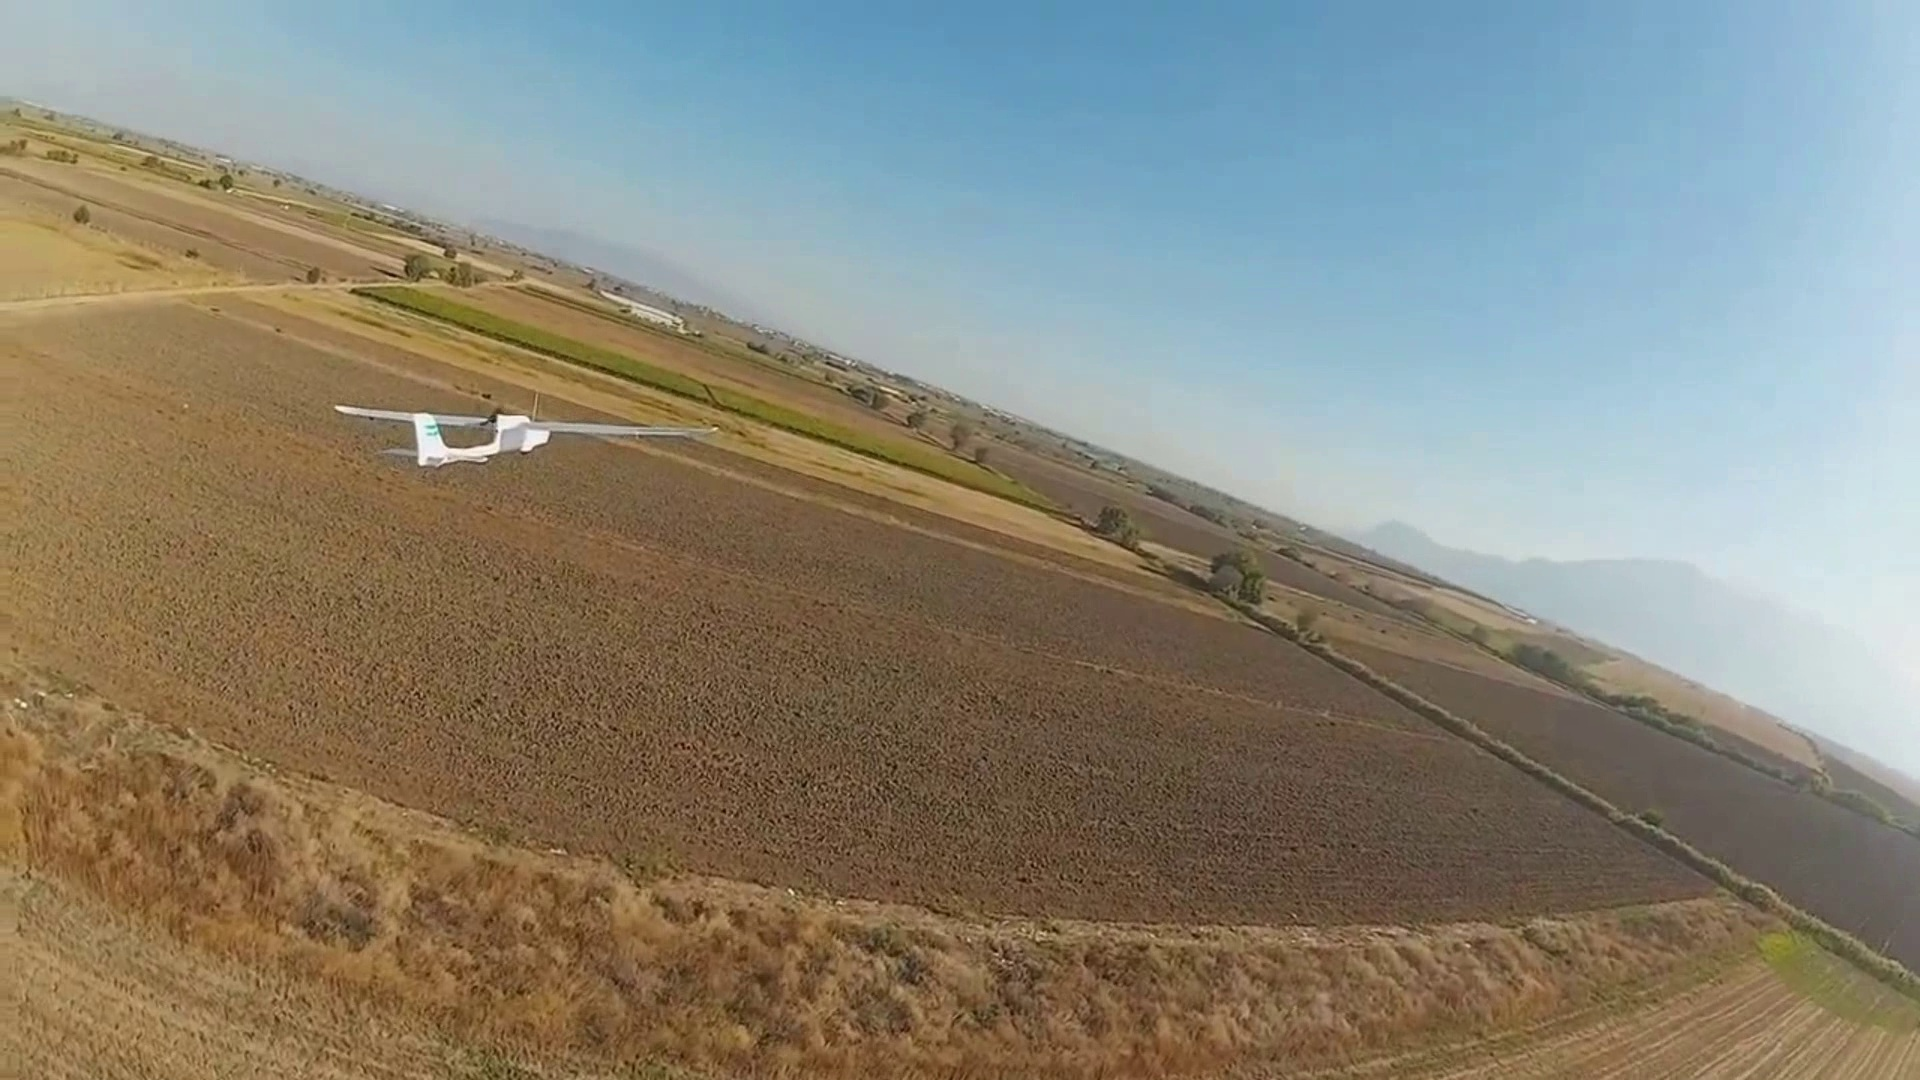airplane: (332, 406, 551, 465)
